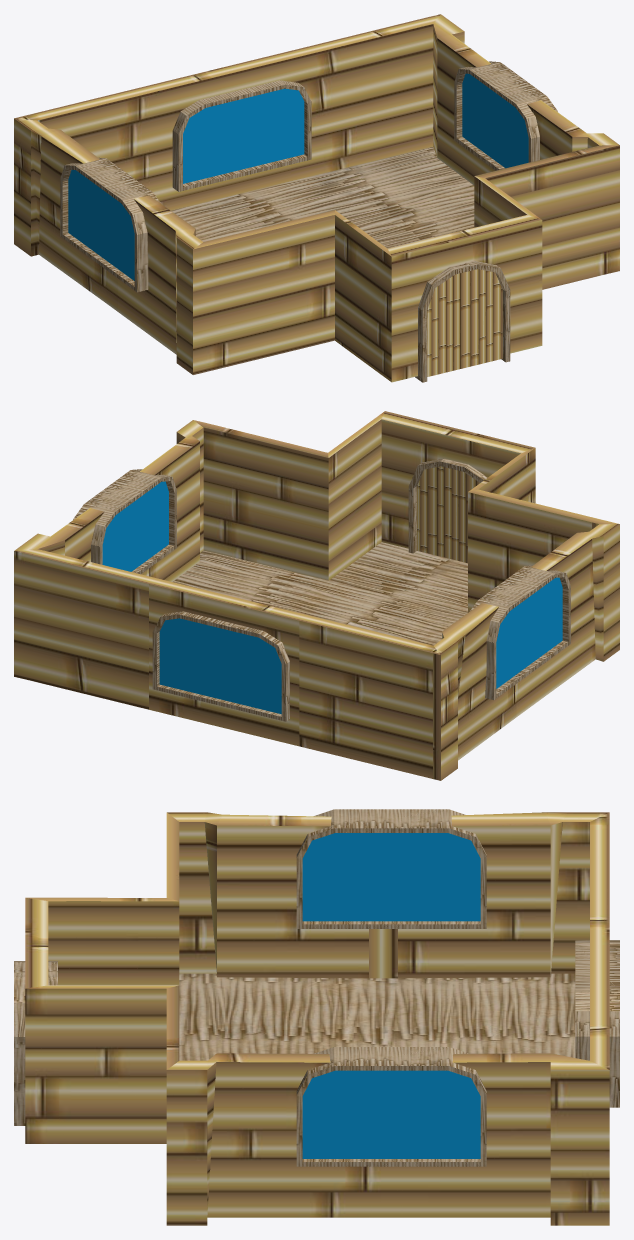
File: CajaCasa 3.2 Interior.fbx
The picture shows the model from 3 angles, top to bottom: view 1: azimuth 30°, elevation 25°; view 2: azimuth 150°, elevation 25°; view 3: azimuth 270°, elevation 25°; orthographic projection. The views are drawn at different scales.
Parts seen in each view (by area): view 1: Base 2.005; view 2: Base 2.005; view 3: Base 2.005.
Part boxes in pixels (x1,y1,x2,y2): Base 2.005: (14,14,619,382); Base 2.005: (14,411,619,780); Base 2.005: (14,809,619,1225).
Size of the model in its own units: 559 by 161 by 551.
10 materials, 7 textured.
